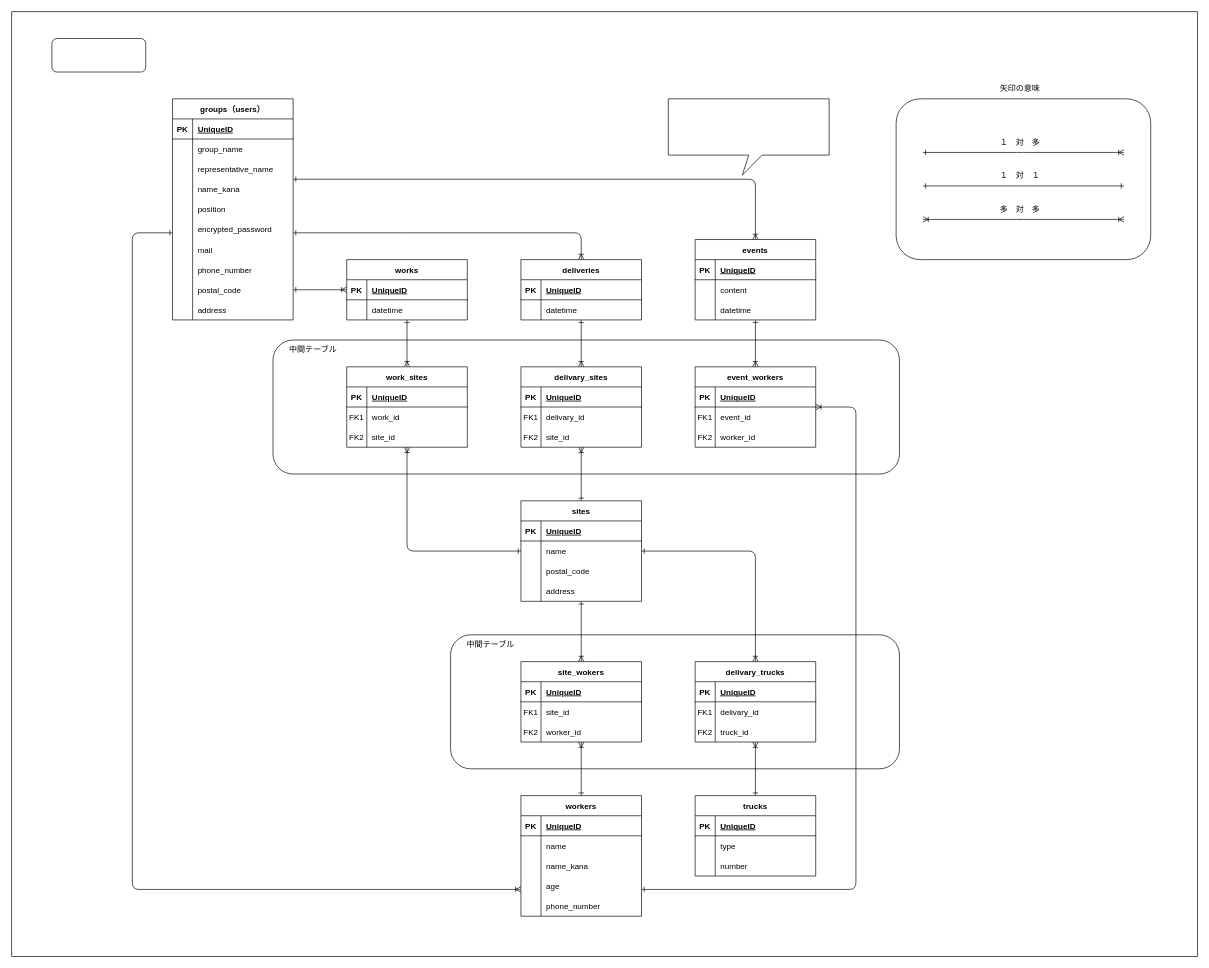
This 1209x968 diagram has some shape labels left out. The centre of each missing label's shape, as x and y in pixels:
Schedule_app database_design: pixel 98 55
例 会社は複数のイベントを持つ １（会社） 対 多（イベント）: pixel 748 136
